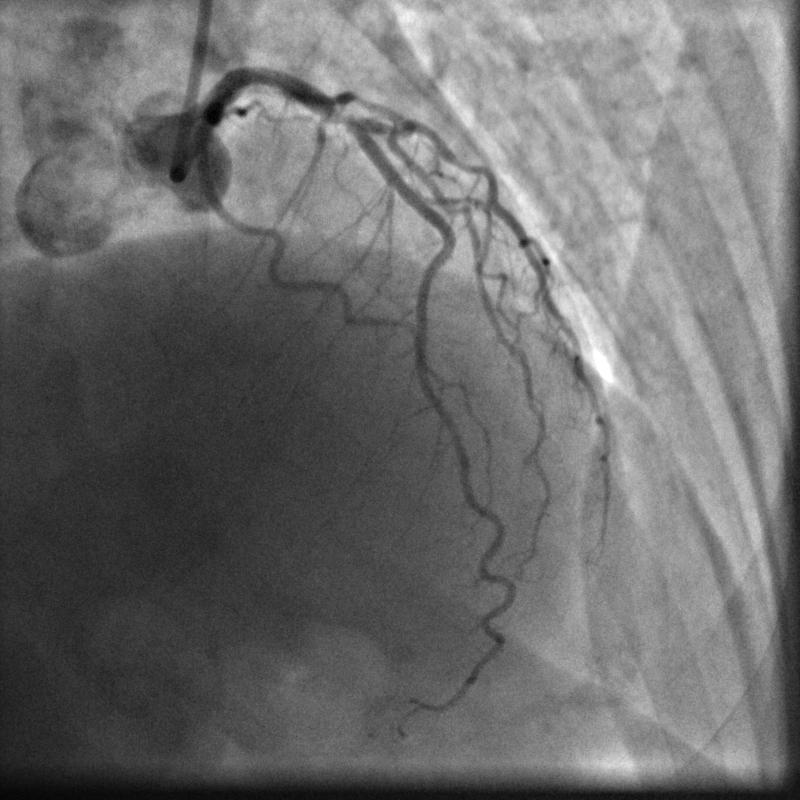Stenosis: (328, 98, 350, 131)
